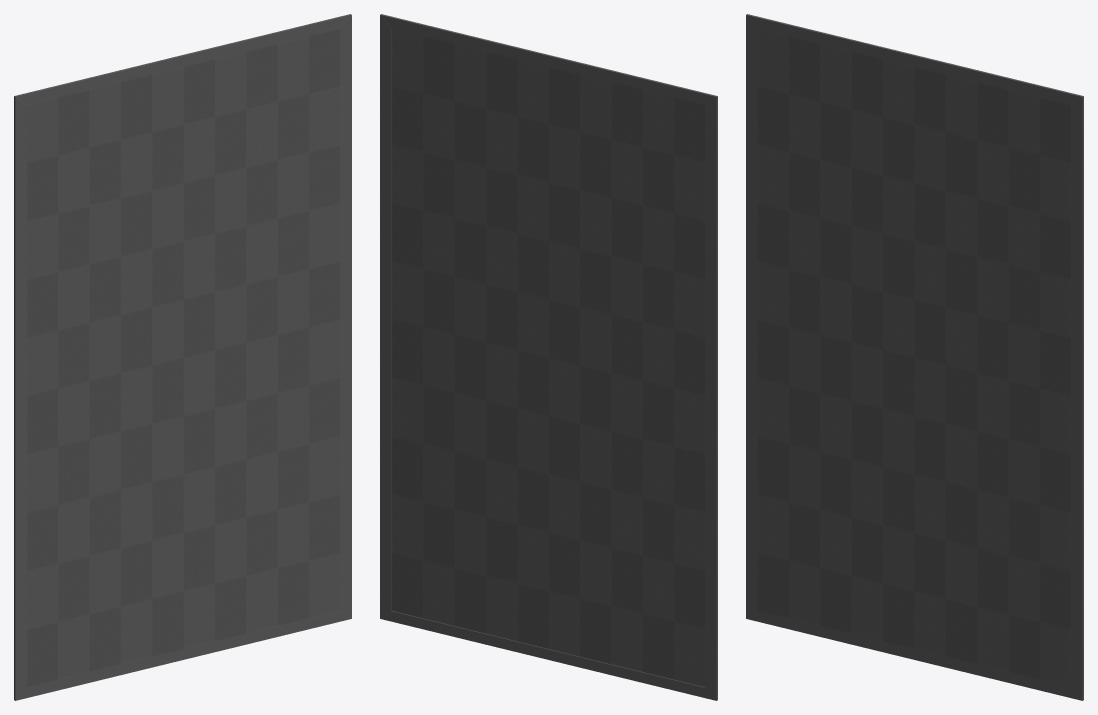
Rendered from SM_Front_Door_02.glb.
3 renders of one model, left to right at view 1: azimuth 30°, elevation 25°; view 2: azimuth 150°, elevation 25°; view 3: azimuth 330°, elevation 25°, orthographic.
Parts seen in each view (by area): view 1: SM_Front_Door_02; view 2: SM_Front_Door_02; view 3: SM_Front_Door_02.
Part boxes in pixels (<box>): SM_Front_Door_02: <box>14,14,351,700</box>; SM_Front_Door_02: <box>380,14,717,700</box>; SM_Front_Door_02: <box>746,14,1083,700</box>.
Size of the model in its own units: 144 by 247 by 0.9064.
1 material, 1 textured.
